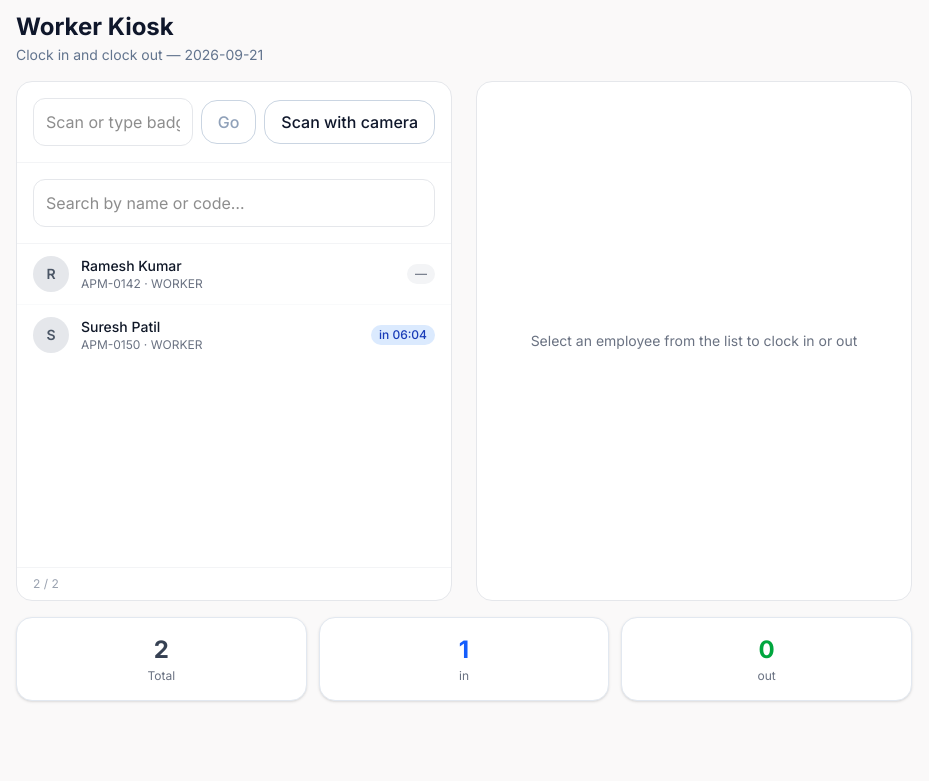
punching › offline it is SAVED ON THIS DEVICE, in words that say what already happened — never “connection error”
Click the button "R Ramesh Kumar APM-0142 · WORKER —": click(51, 274) [17, 244, 451, 305]
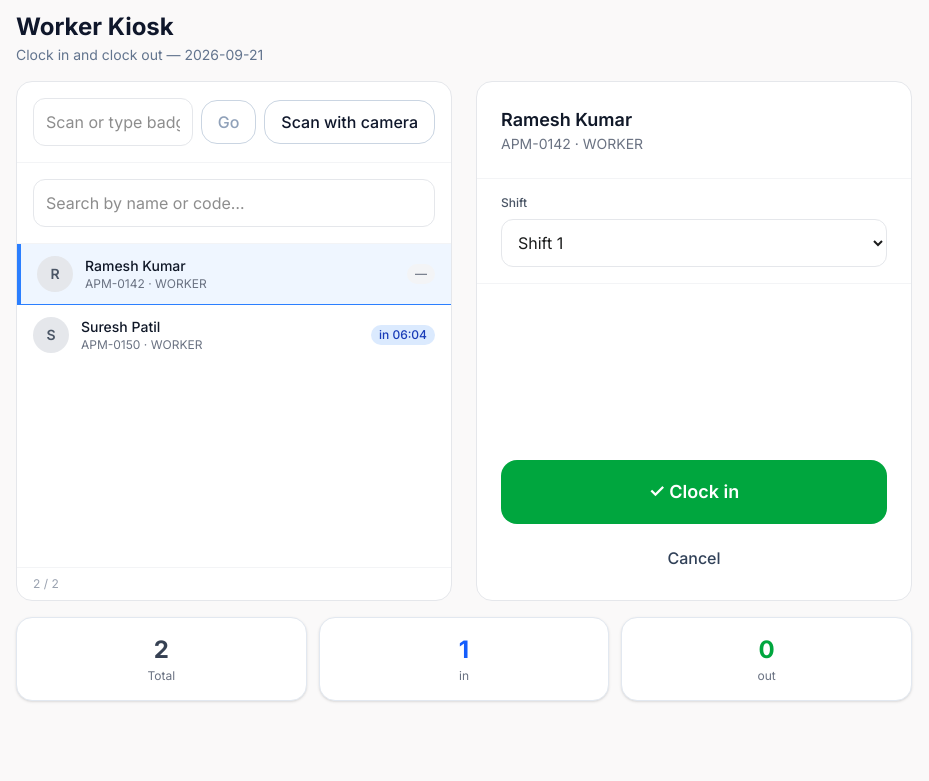
Click the button "✓ Clock in": click(694, 492) [501, 460, 887, 524]
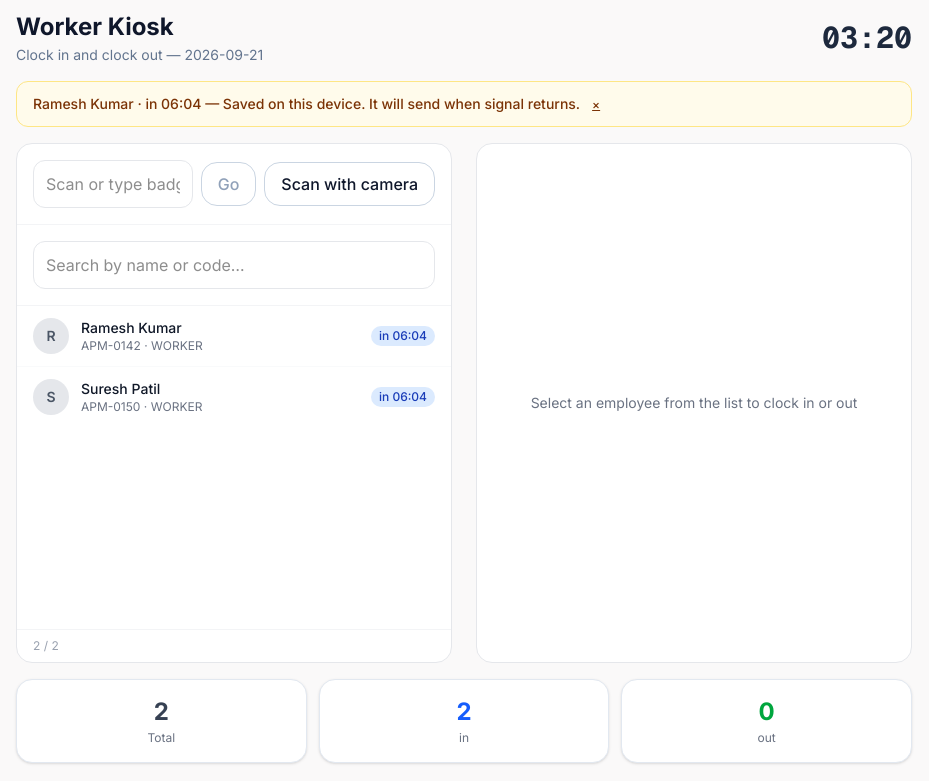
expect the text "Saved on this device" shows "Saved on this device. It will send when signal returns.": met, box [33, 95, 580, 112]
expect the text "Saved on this device" shows "06:04": met, box [33, 95, 580, 112]
